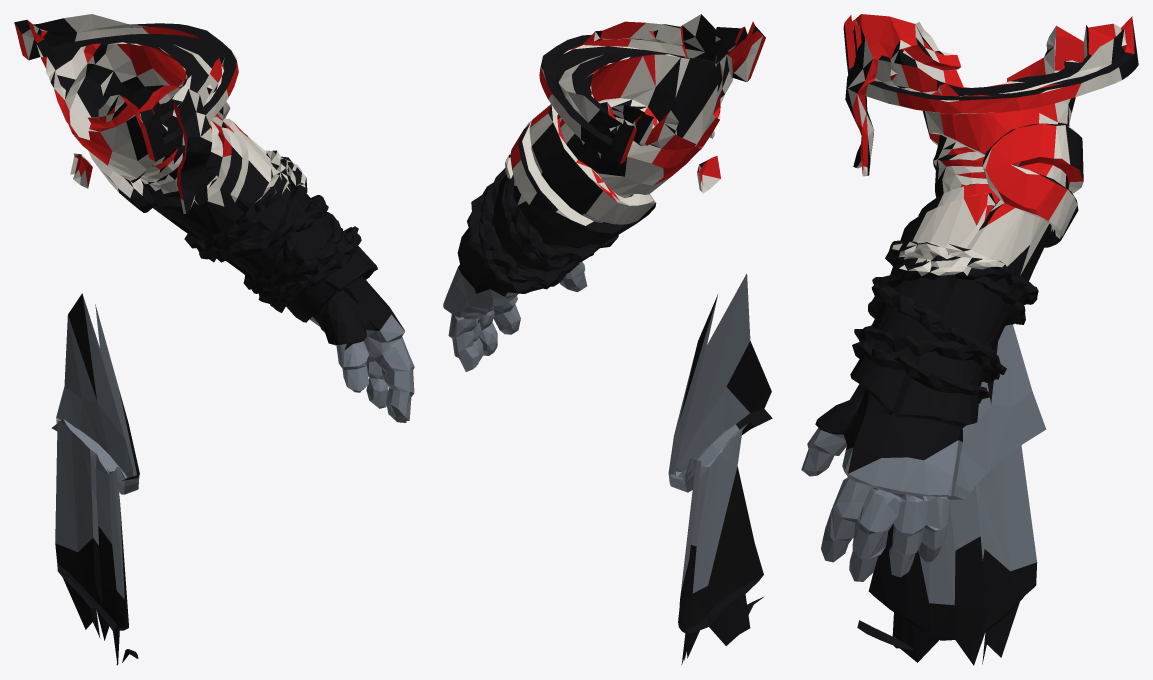
The model's file is spacemarine_arm_l.obj.
3 views of the same model, side by side, from view 1: azimuth 30°, elevation 25°; view 2: azimuth 150°, elevation 25°; view 3: azimuth 270°, elevation 25° (orthographic). The views are drawn at different scales.
Visible parts, largest first — view 1: Left_Arm; view 2: Left_Arm; view 3: Left_Arm.
Boxes of the visible parts, x1,y1,x2,y2 form: Left_Arm: (14, 14, 414, 665); Left_Arm: (443, 14, 772, 664); Left_Arm: (801, 14, 1138, 665).
Size of the model in its own units: 0.457 by 0.8635 by 0.4056.
